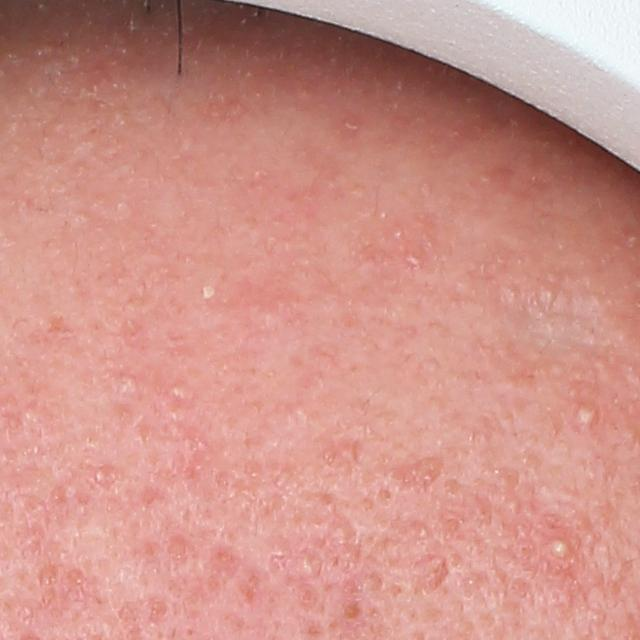atrophic_scar: (392, 456, 447, 491)
comedo: (299, 555, 319, 577)
pustule: (542, 533, 576, 562), (574, 401, 602, 426), (197, 278, 218, 300)
